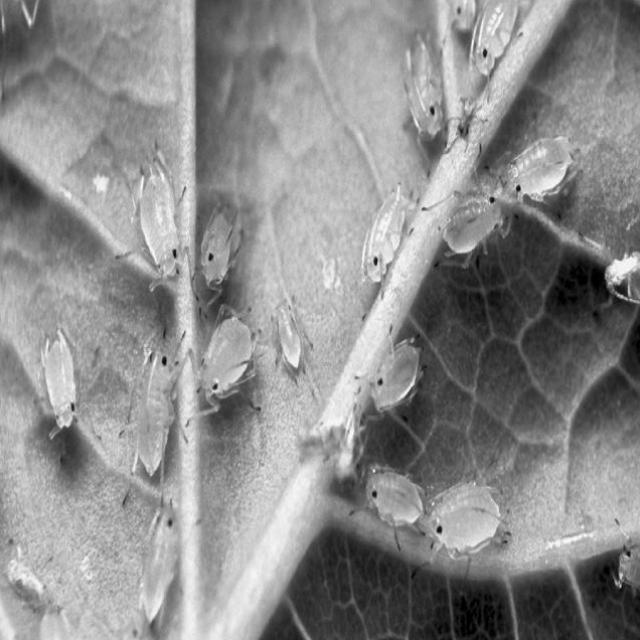Aphids: (111, 140, 269, 492), (414, 135, 584, 306), (358, 464, 518, 578), (341, 170, 423, 302), (122, 494, 194, 630), (383, 14, 448, 162), (18, 320, 90, 449), (354, 324, 434, 424), (448, 2, 526, 74), (269, 276, 313, 384)
